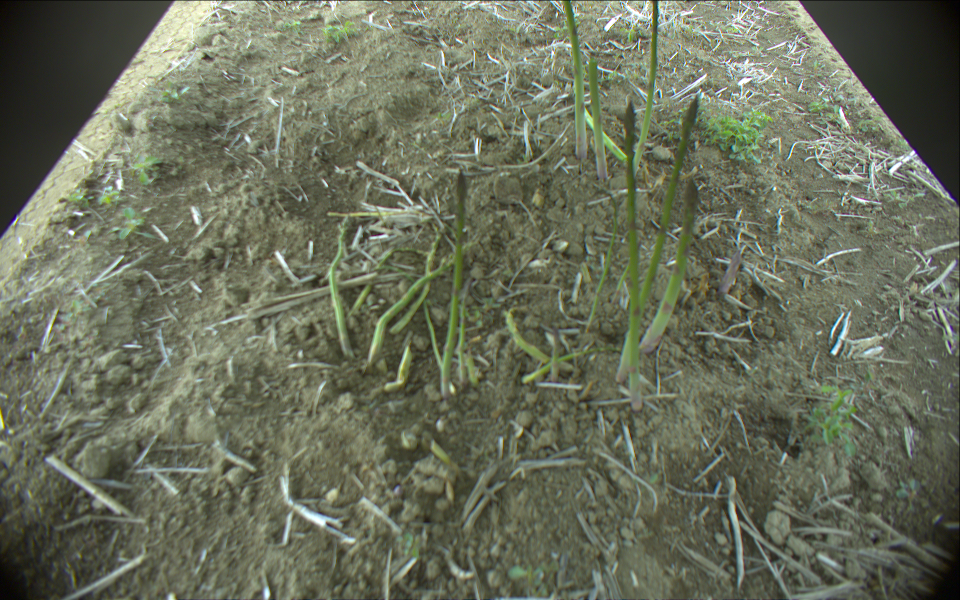aspa: (615, 96, 706, 383), (365, 240, 471, 361), (638, 179, 705, 352), (439, 168, 470, 398), (623, 102, 646, 411), (340, 247, 433, 322), (389, 230, 444, 334), (317, 214, 356, 357), (629, 1, 660, 176), (581, 205, 621, 335), (556, 1, 589, 158), (505, 308, 578, 374), (520, 346, 622, 385), (587, 51, 612, 181), (421, 301, 456, 393), (578, 105, 629, 162), (457, 279, 475, 387), (381, 347, 420, 394), (610, 260, 631, 311), (325, 210, 434, 218)
